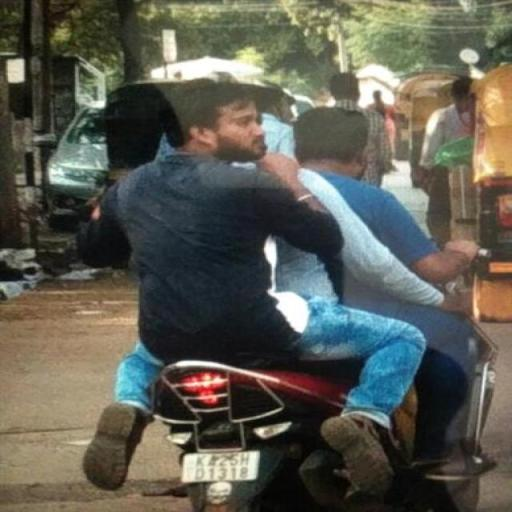tripple riding: (96, 78, 504, 358)
